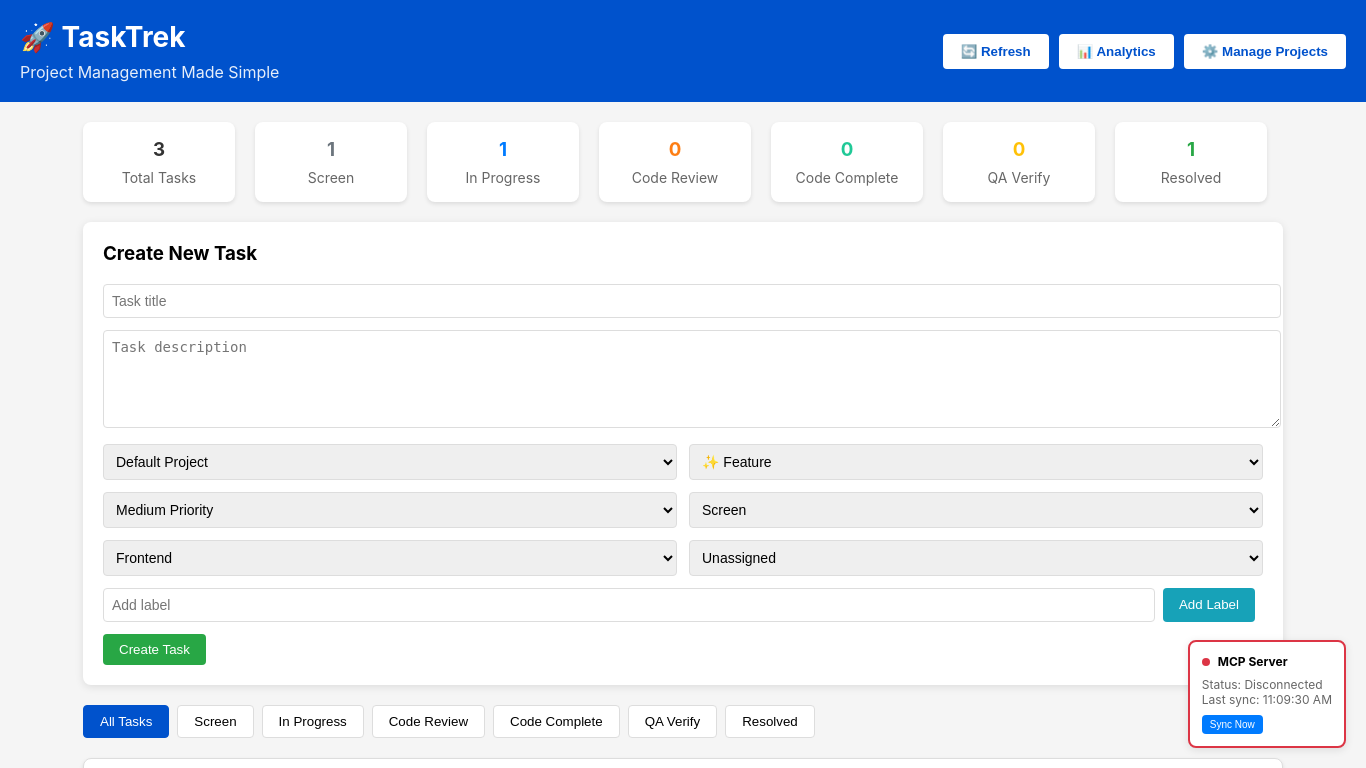
Scenario: Dashboard Component › closes project manager modal
What coordinates should you click on to do the following:
click the button "⚙️ Manage Projects"
I would click on:
 (1265, 51)
Its box is [1184,34,1346,68].
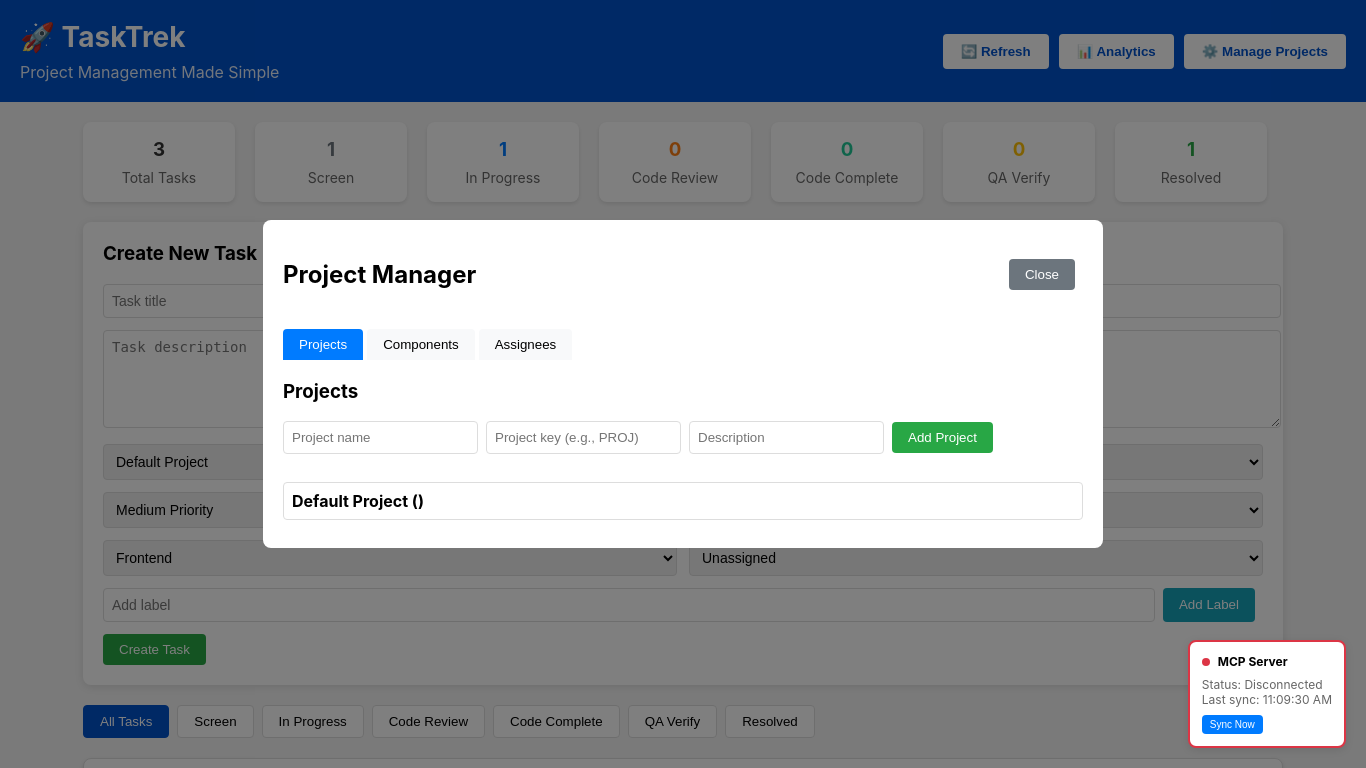
Expected: the heading "Project Manager" is shown, [283,260,476,289]
What coordinates should you click on to do the following:
click the button "Close"
I would click on:
 (1042, 274)
Its box is [1009,259,1075,290].
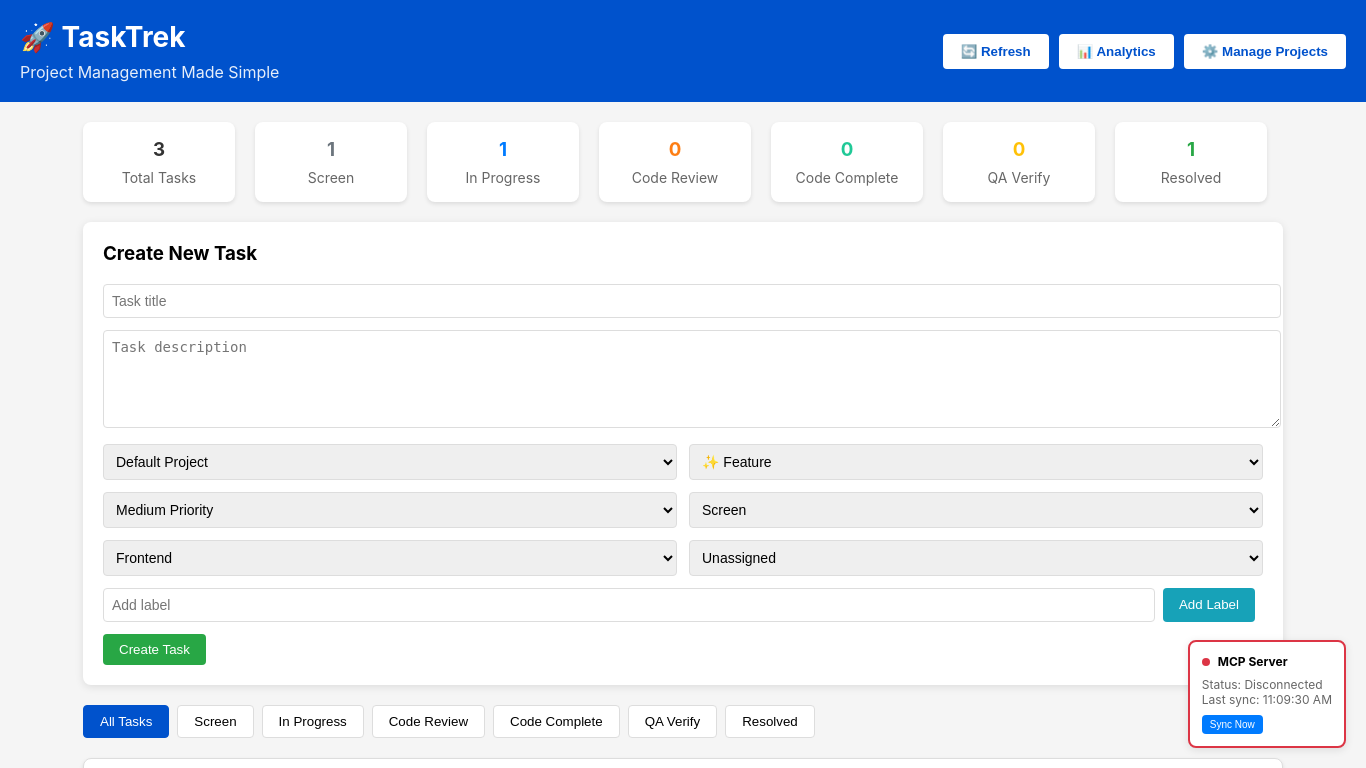
Expected: the heading "Project Manager" is gone
